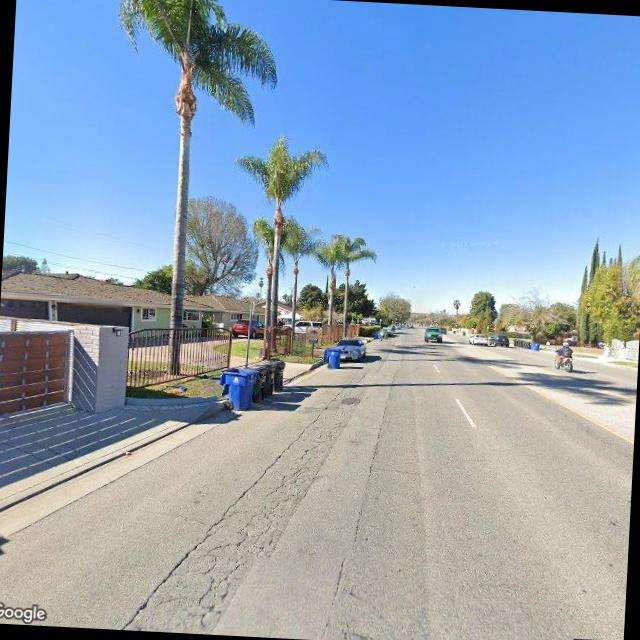crack: (137, 390, 360, 639)
